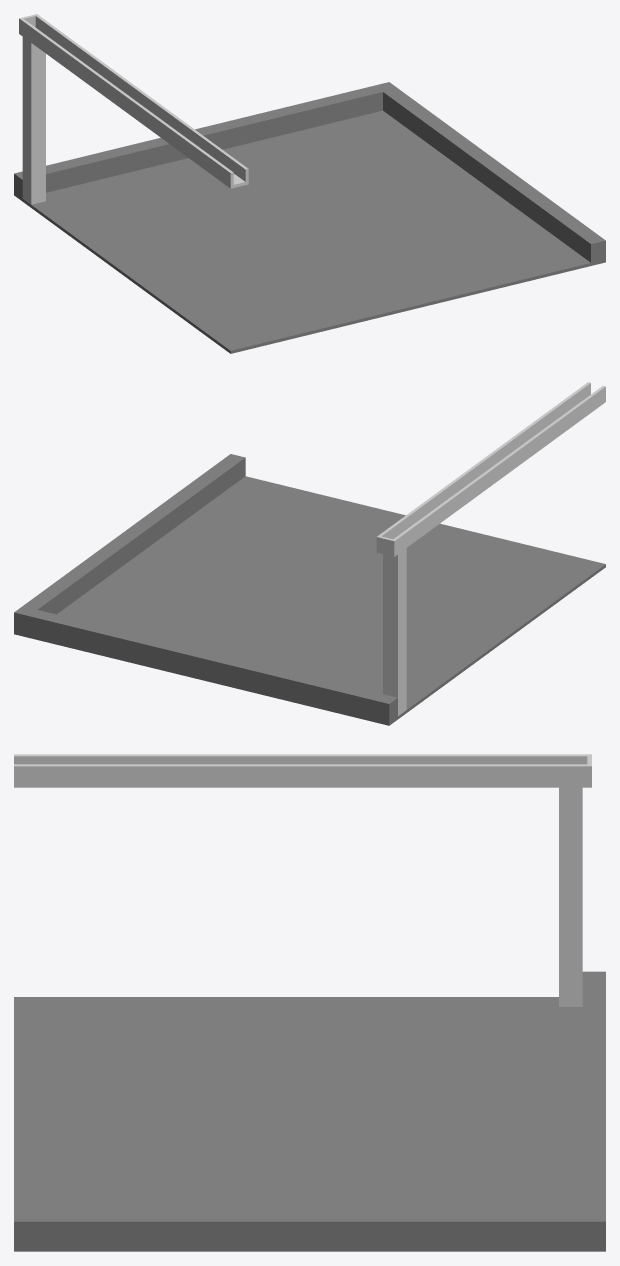
Rendered from 4x2 roof (des)-4.obj.
The picture shows the model from 3 angles, top to bottom: view 1: azimuth 30°, elevation 25°; view 2: azimuth 150°, elevation 25°; view 3: azimuth 270°, elevation 25°; orthographic projection. The views are drawn at different scales.
Parts seen in each view (by area): view 1: 4x2 roof (des)-4; view 2: 4x2 roof (des)-4; view 3: 4x2 roof (des)-4.
Boxes of the visible parts, <box> form: 4x2 roof (des)-4: <box>14,14,605,353</box>; 4x2 roof (des)-4: <box>14,382,605,725</box>; 4x2 roof (des)-4: <box>14,754,605,1251</box>.
Size of the model in its own units: 126 by 58 by 126.
Materials: 1 (1 with a texture image).
